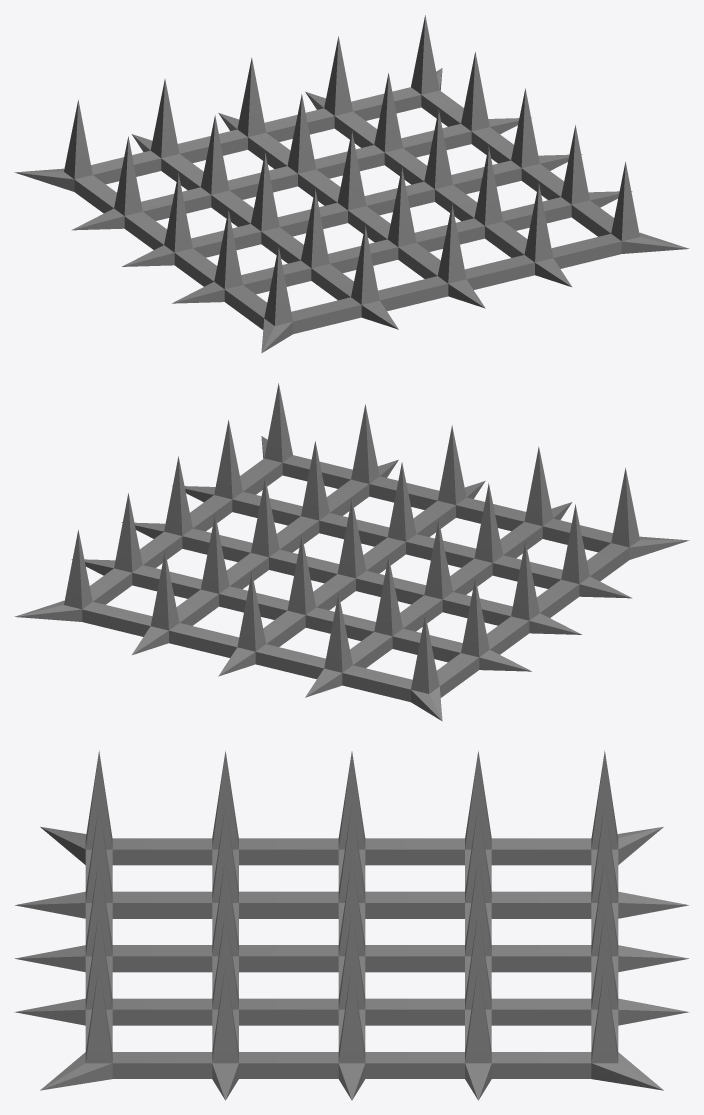
File: Iron_Barrier_2.fbx
3 renders of one model, top to bottom at view 1: azimuth 30°, elevation 25°; view 2: azimuth 150°, elevation 25°; view 3: azimuth 270°, elevation 25°, orthographic. The views are drawn at different scales.
Visible parts, largest first — view 1: Iron_Barrier_2; view 2: Iron_Barrier_2; view 3: Iron_Barrier_2.
Part boxes in pixels (<box>): Iron_Barrier_2: <box>14,15,689,353</box>; Iron_Barrier_2: <box>14,383,689,721</box>; Iron_Barrier_2: <box>14,750,689,1100</box>.
Size of the model in its own units: 177 by 31.9 by 178.
Materials: 1 (1 with a texture image).
